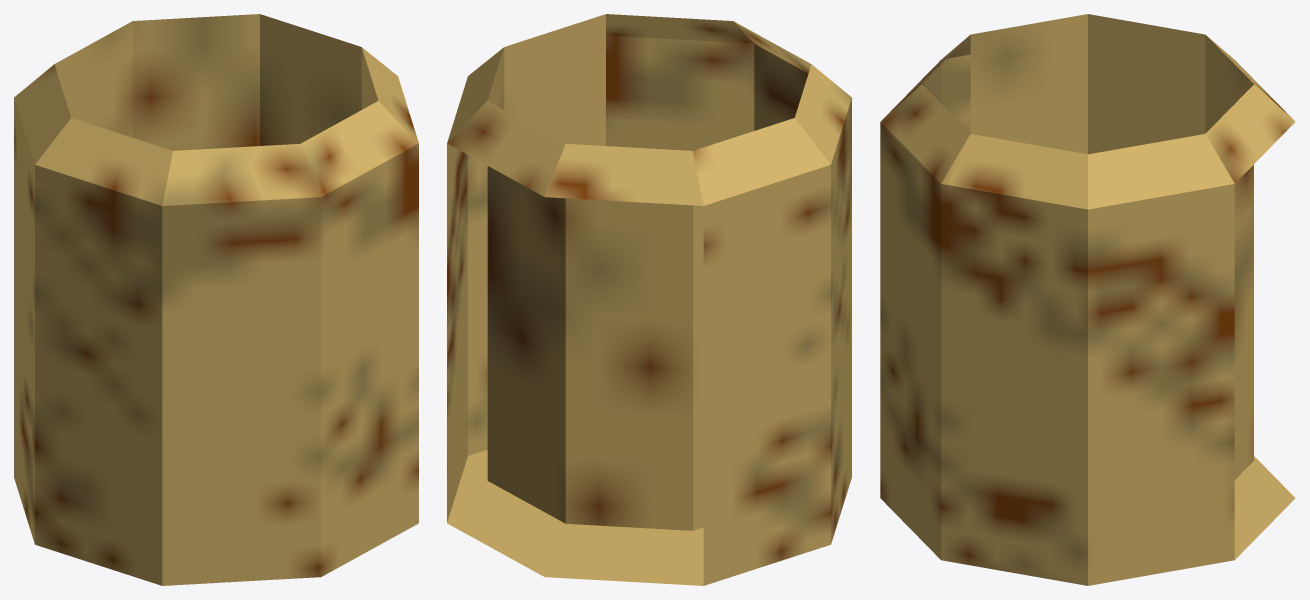
File: container.obj
3 views of the same model, side by side, from view 1: azimuth 30°, elevation 25°; view 2: azimuth 150°, elevation 25°; view 3: azimuth 270°, elevation 25° (orthographic).
Parts seen in each view (by area): view 1: Cylinder; view 2: Cylinder; view 3: Cylinder.
Part boxes in pixels (left/top/right/bottom): Cylinder: left=14, top=14, right=418, bottom=585; Cylinder: left=447, top=14, right=851, bottom=585; Cylinder: left=880, top=14, right=1295, bottom=585.
Size of the model in its own units: 2 by 2.2 by 2.
